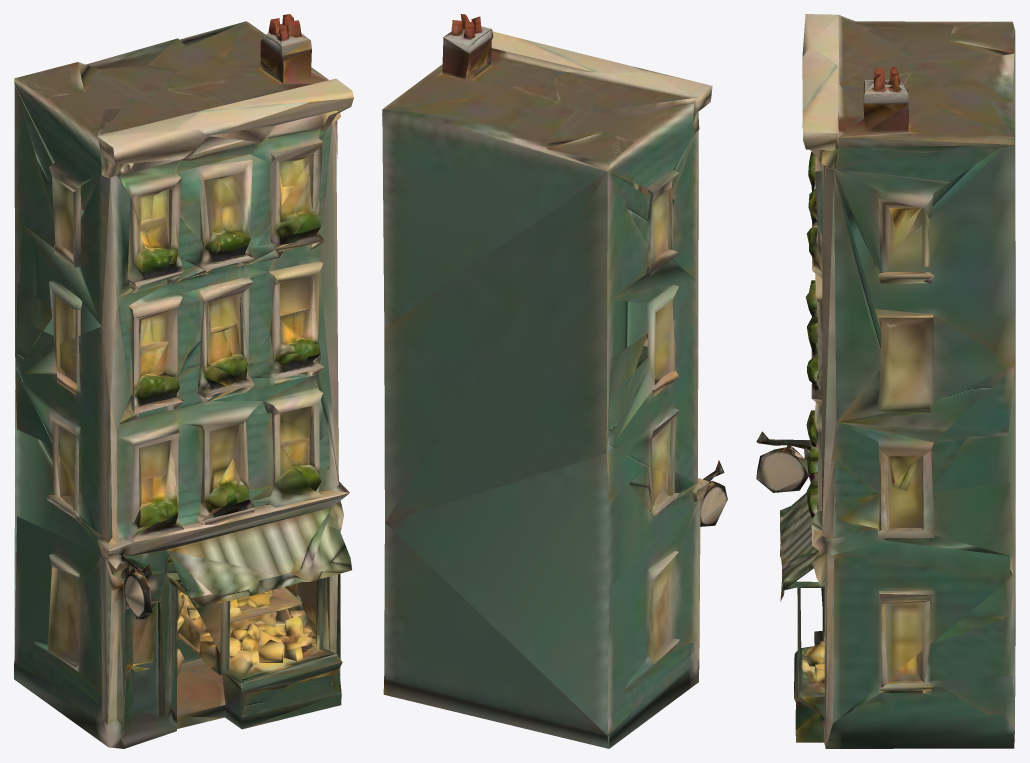
The model's file is getkong-haus6.glb.
3 renders of one model, left to right at view 1: azimuth 30°, elevation 25°; view 2: azimuth 150°, elevation 25°; view 3: azimuth 270°, elevation 25°, orthographic. The views are drawn at different scales.
Visible parts, largest first — view 1: output_unwrapped; view 2: output_unwrapped; view 3: output_unwrapped.
Boxes of the visible parts, x1,y1,x2,y2 form: output_unwrapped: (14,14,353,748); output_unwrapped: (382,14,727,748); output_unwrapped: (756,14,1015,748).
Bounding box in the file's own units: 0.7444 × 1.9 × 0.672.
1 material, 1 textured.
